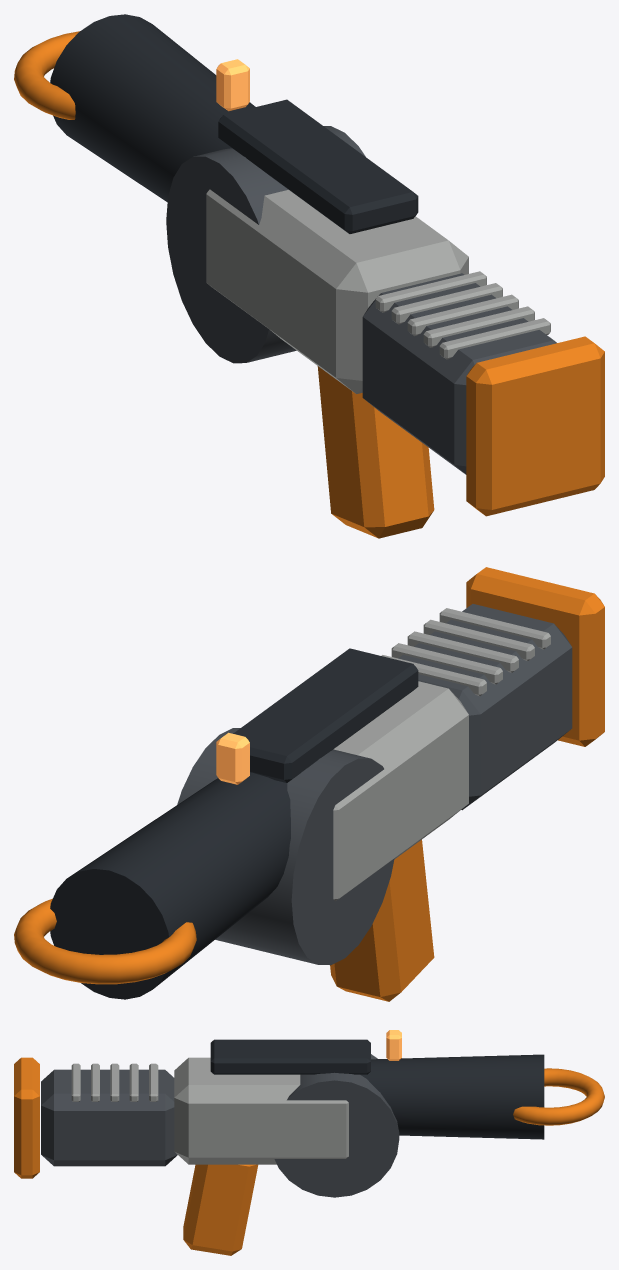
File: arena-grenade-launcher.glb
3 renders of one model, top to bottom at view 1: azimuth 30°, elevation 25°; view 2: azimuth 150°, elevation 25°; view 3: azimuth 270°, elevation 25°, orthographic. The views are drawn at different scales.
Visible parts, largest first — view 1: LauncherReceiver, LauncherButtPad, LauncherBore, LauncherStock, LauncherTopRail, LauncherDrum, LauncherGrip, LauncherStockRibs, LauncherMuzzleCollar, LauncherFrontSight; view 2: LauncherBore, LauncherReceiver, LauncherDrum, LauncherStock, LauncherTopRail, LauncherButtPad, LauncherGrip, LauncherMuzzleCollar, LauncherStockRibs, LauncherFrontSight; view 3: LauncherReceiver, LauncherBore, LauncherStock, LauncherDrum, LauncherTopRail, LauncherGrip, LauncherButtPad, LauncherMuzzleCollar, LauncherStockRibs, LauncherFrontSight.
Part boxes in pixels (x1=…): LauncherReceiver: x1=206, y1=189, x2=468, y2=393; LauncherButtPad: x1=466, y1=336, x2=604, y2=516; LauncherBore: x1=50, y1=14, x2=255, y2=202; LauncherStock: x1=362, y1=273, x2=556, y2=474; LauncherTopRail: x1=218, y1=99, x2=418, y2=233; LauncherDrum: x1=166, y1=126, x2=365, y2=363; LauncherGrip: x1=317, y1=366, x2=434, y2=538; LauncherStockRibs: x1=375, y1=271, x2=550, y2=359; LauncherMuzzleCollar: x1=14, y1=31, x2=79, y2=119; LauncherFrontSight: x1=216, y1=59, x2=249, y2=111; LauncherBore: x1=50, y1=772, x2=290, y2=999; LauncherReceiver: x1=333, y1=681, x2=468, y2=901; LauncherDrum: x1=177, y1=728, x2=394, y2=965; LauncherStock: x1=398, y1=604, x2=572, y2=810; LauncherTopRail: x1=233, y1=648, x2=418, y2=782; LauncherButtPad: x1=466, y1=567, x2=604, y2=746; LauncherGrip: x1=330, y1=839, x2=434, y2=1001; LauncherMuzzleCollar: x1=14, y1=898, x2=196, y2=984; LauncherStockRibs: x1=381, y1=608, x2=550, y2=696; LauncherFrontSight: x1=216, y1=732, x2=249, y2=784; LauncherReceiver: x1=174, y1=1057, x2=348, y2=1164; LauncherBore: x1=360, y1=1054, x2=544, y2=1139; LauncherStock: x1=41, y1=1069, x2=177, y2=1166; LauncherDrum: x1=274, y1=1054, x2=399, y2=1197; LauncherTopRail: x1=210, y1=1039, x2=370, y2=1074; LauncherGrip: x1=183, y1=1164, x2=258, y2=1255; LauncherButtPad: x1=14, y1=1057, x2=39, y2=1178; LauncherMuzzleCollar: x1=513, y1=1068, x2=604, y2=1125; LauncherStockRibs: x1=71, y1=1063, x2=158, y2=1101; LauncherFrontSight: x1=386, y1=1030, x2=401, y2=1060.
Bounding box in the file's own units: 0.43 × 0.9254 × 2.28.
